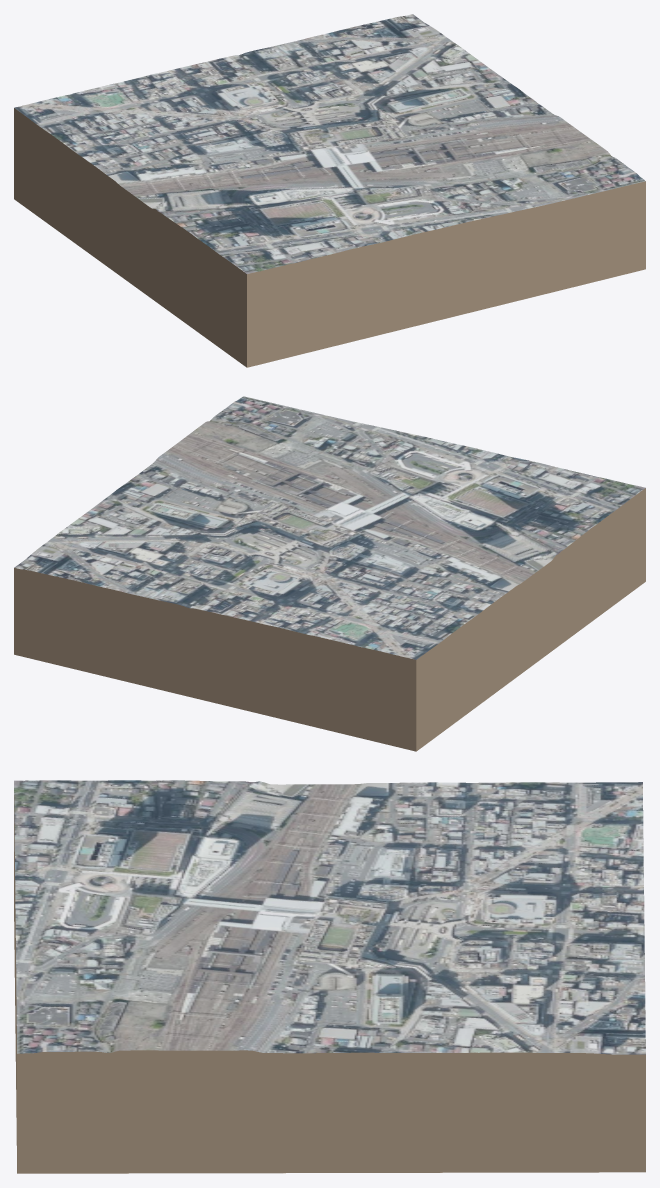
File: terrain.glb
The picture shows the model from 3 angles, top to bottom: view 1: azimuth 30°, elevation 25°; view 2: azimuth 150°, elevation 25°; view 3: azimuth 270°, elevation 25°; orthographic projection. The views are drawn at different scales.
Bounding box in the file's own units: 515 × 115 × 515.
2 materials, 1 textured.
